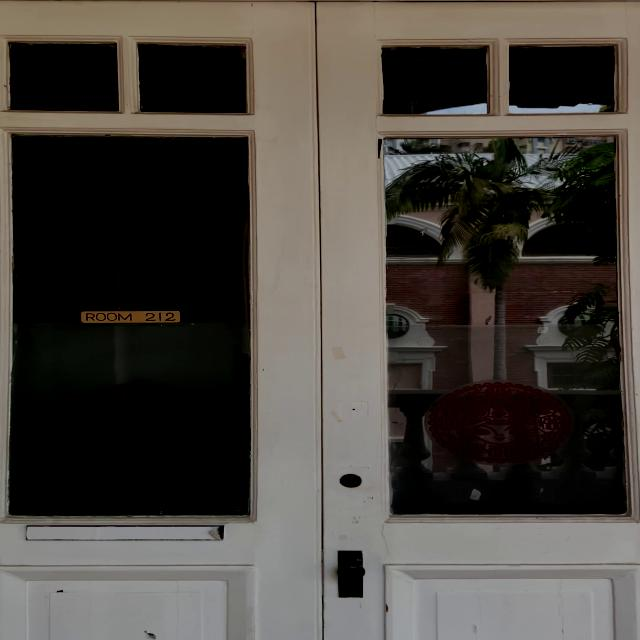room212Window: (64, 304, 190, 329)
